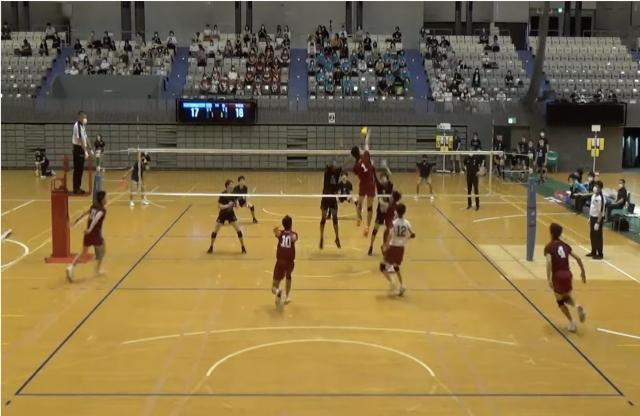spike: (344, 124, 380, 238)
